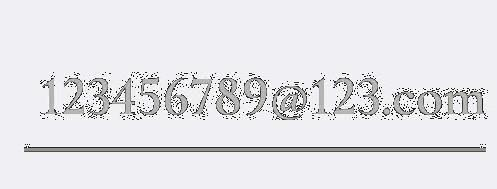EditText: (1, 1, 496, 188)
